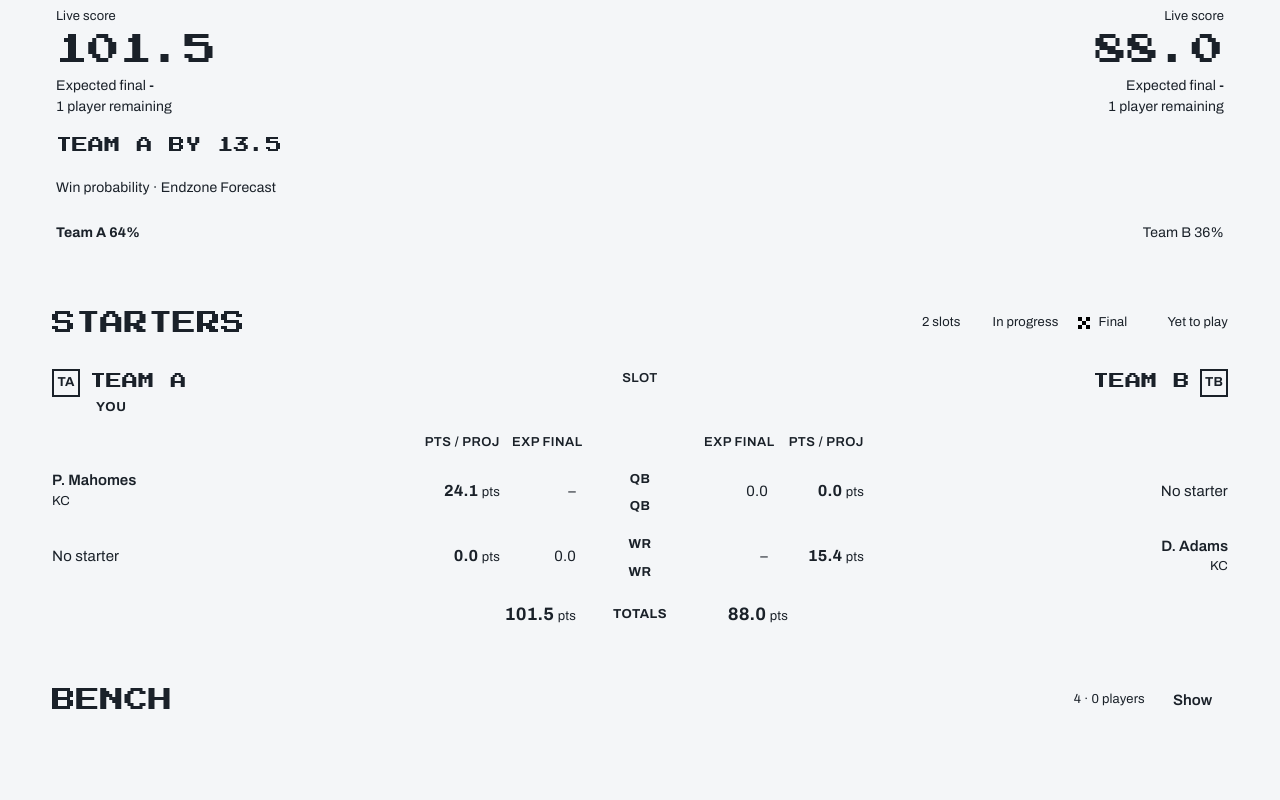
Test: the bench shows live points over "proj x" like starters, final reads "pts · final", not-started shows proj alone, bye stays "on bye"
The width and height of the screenshot is (1280, 800).
(page scrolled)
Click the button with aria-label "Show benches". click: (1192, 700)
box: [1157, 678, 1228, 722]
(page scrolled)
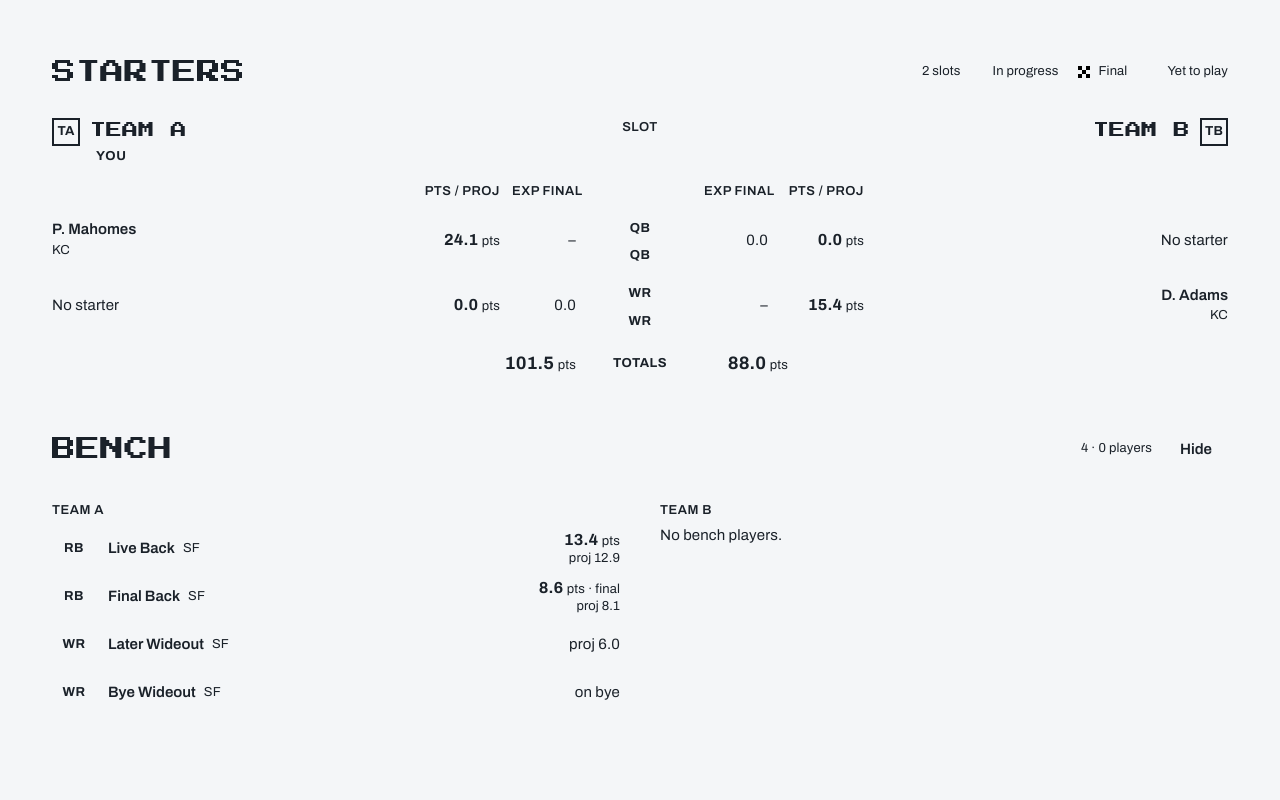
Expected: the list item with test id "bench-row" shows "13.4 pts", [52, 524, 620, 572]
Expected: the list item with test id "bench-row" shows "proj 12.9", [569, 551, 620, 565]
Expected: the list item with test id "bench-row" shows "8.6 pts · final", [52, 572, 620, 620]
